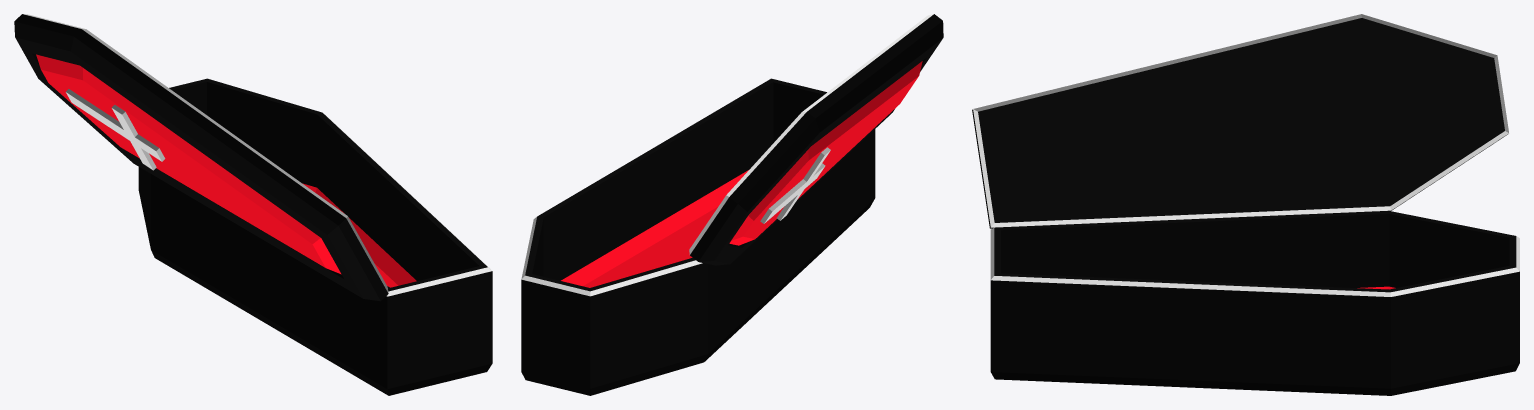
The model's file is coffinopen.fbx.
3 views of the same model, side by side, from view 1: azimuth 30°, elevation 25°; view 2: azimuth 150°, elevation 25°; view 3: azimuth 270°, elevation 25° (orthographic).
Parts seen in each view (by area): view 1: Cube; view 2: Cube; view 3: Cube.
Boxes of the visible parts, x1,y1,x2,y2 form: Cube: [14, 14, 492, 395]; Cube: [521, 14, 943, 395]; Cube: [972, 14, 1519, 395].
Size of the model in its own units: 135 by 127 by 240.
